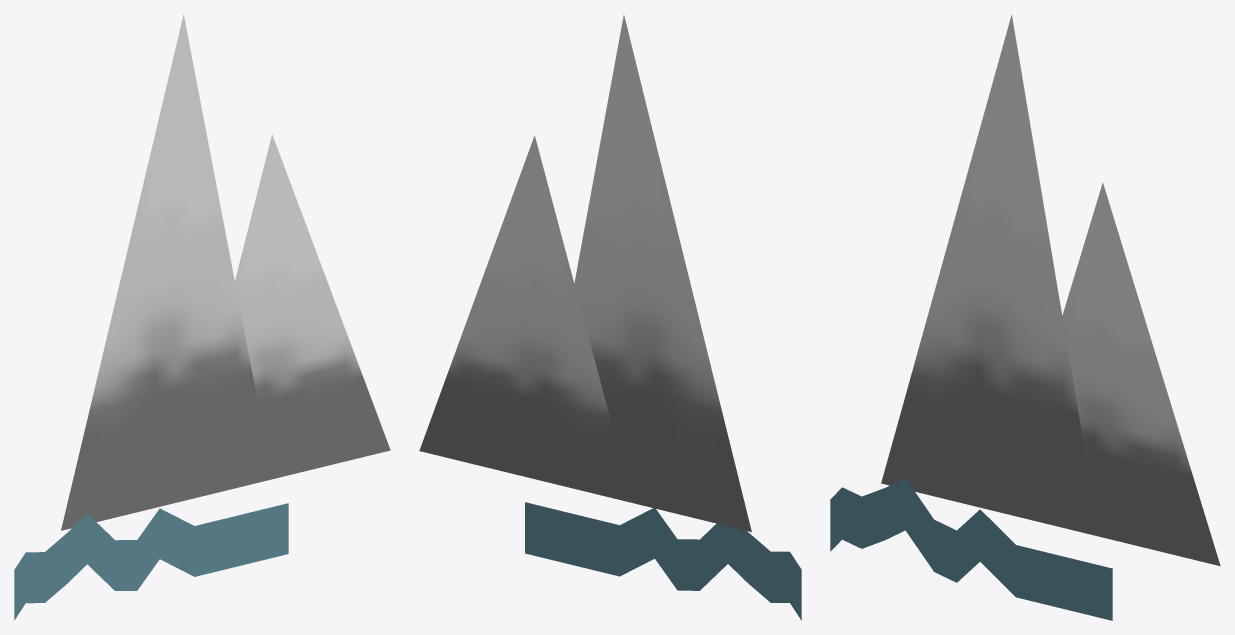
File: car village.obj
The picture shows the model from 3 angles, left to right: view 1: azimuth 30°, elevation 25°; view 2: azimuth 150°, elevation 25°; view 3: azimuth 330°, elevation 25°; orthographic projection. The views are drawn at different scales.
Visible parts, largest first — view 1: ze_Background, Map; view 2: ze_Background, Map; view 3: ze_Background, Map.
Part boxes in pixels (box(x1,y1,x2,y2)): ze_Background: box(61, 15, 390, 530); Map: box(14, 503, 288, 620); ze_Background: box(419, 15, 751, 531); Map: box(525, 502, 801, 620); ze_Background: box(881, 14, 1220, 566); Map: box(830, 478, 1112, 620).
Size of what is drawn, in the model's own units: 10700 by 15214 by 168.
